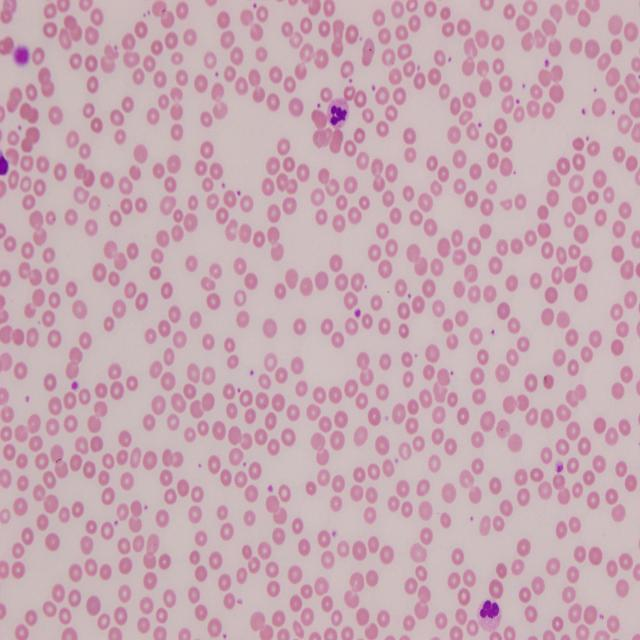cell: (478, 600, 501, 632), (328, 98, 349, 128)
